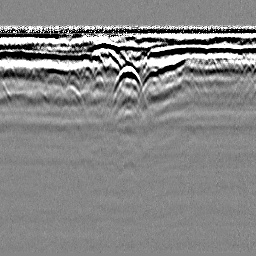cavity: (110, 63, 146, 101)
